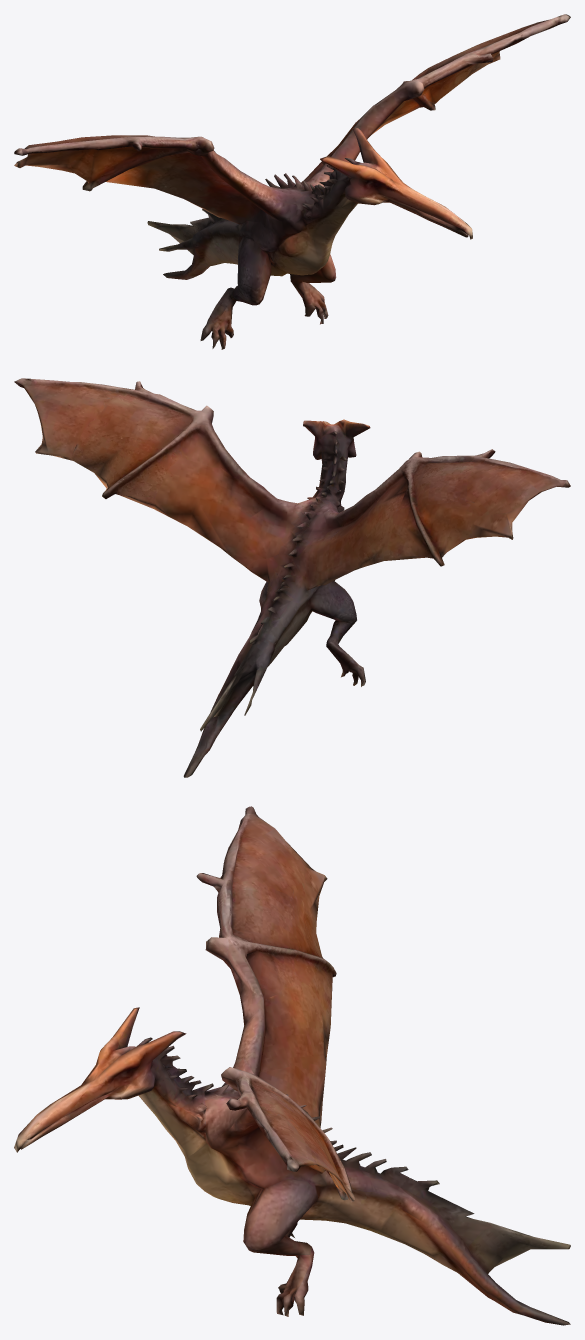
The model's file is p8ptera.glb.
3 renders of one model, top to bottom at view 1: azimuth 30°, elevation 25°; view 2: azimuth 150°, elevation 25°; view 3: azimuth 270°, elevation 25°, orthographic. The views are drawn at different scales.
Parts seen in each view (by area): view 1: tripo_node_f85f28b9-8263-4d9f-9faa-57146b577827; view 2: tripo_node_f85f28b9-8263-4d9f-9faa-57146b577827; view 3: tripo_node_f85f28b9-8263-4d9f-9faa-57146b577827.
Part boxes in pixels (bbox=[...]): tripo_node_f85f28b9-8263-4d9f-9faa-57146b577827: bbox=[14, 14, 570, 349]; tripo_node_f85f28b9-8263-4d9f-9faa-57146b577827: bbox=[14, 378, 570, 777]; tripo_node_f85f28b9-8263-4d9f-9faa-57146b577827: bbox=[14, 806, 570, 1325].
Size of the model in its own units: 1 by 0.4796 by 0.6853.
1 material, 1 textured.
